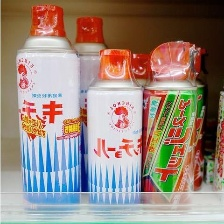aerosol_cans: (12, 1, 83, 224), (56, 10, 116, 198), (139, 38, 201, 219), (82, 44, 145, 222), (160, 42, 210, 198)
